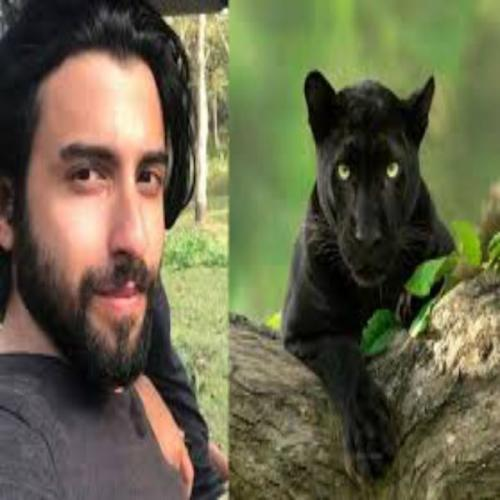panther-endangered: (278, 68, 456, 484)
